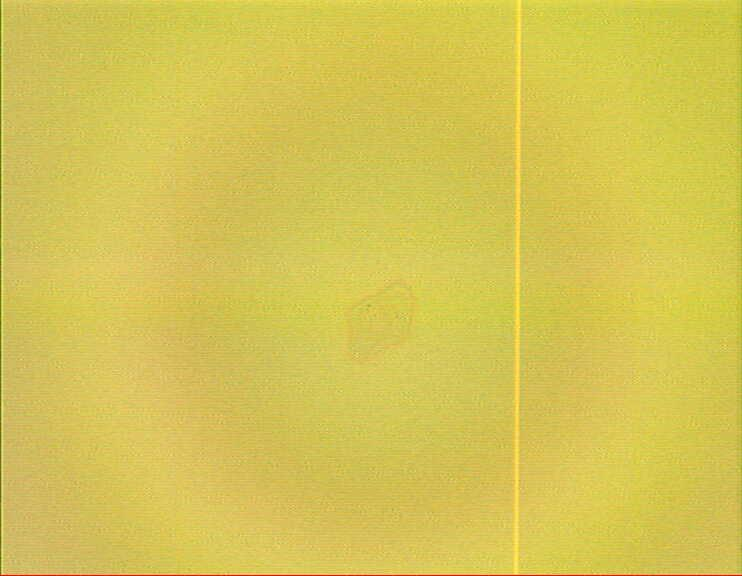PIQ PARTICLE: (343, 277, 418, 367)
